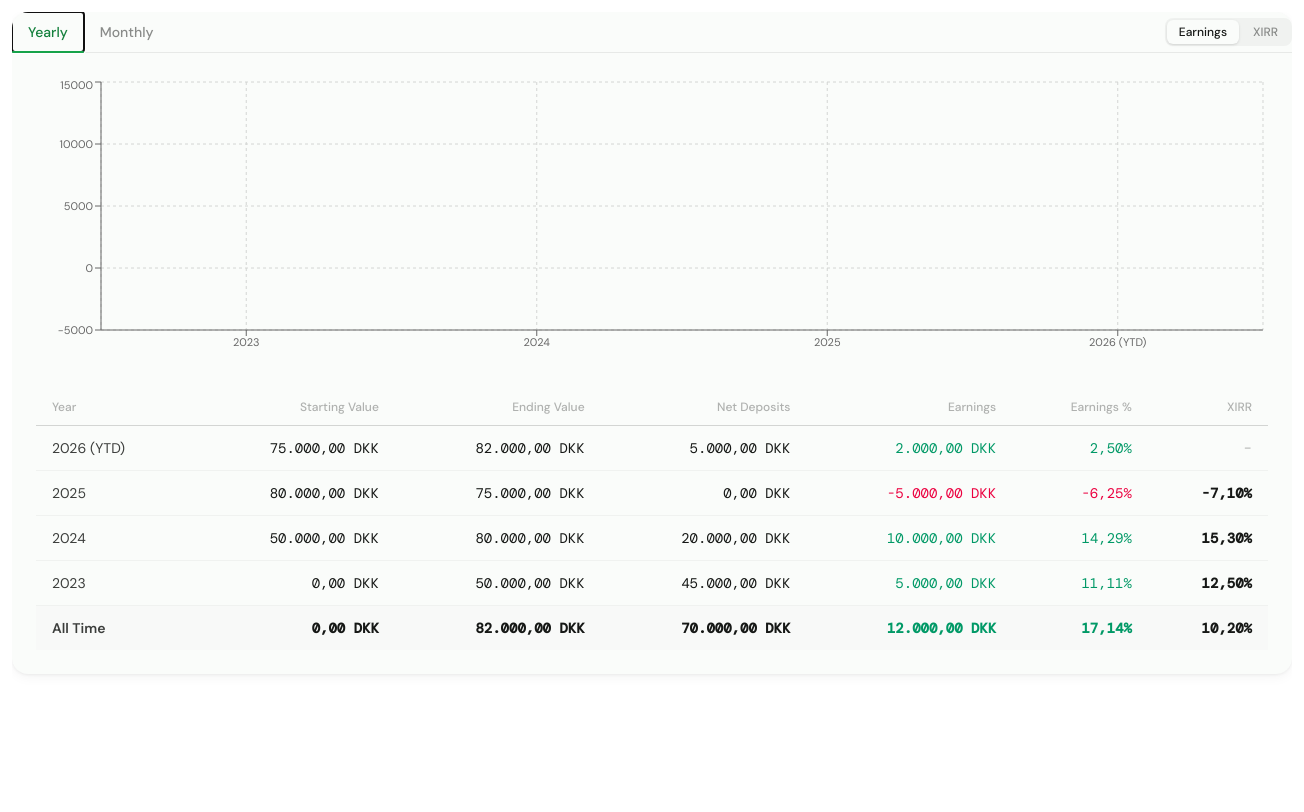
Scenario: PortfolioOverviewPerfYearly › switches to Monthly tab and shows placeholder
The image size is (1304, 812).
What coordinates should you click on to do the following:
click the tab "Monthly"
I would click on:
 (127, 32)
Its box is [84,12,170,52].
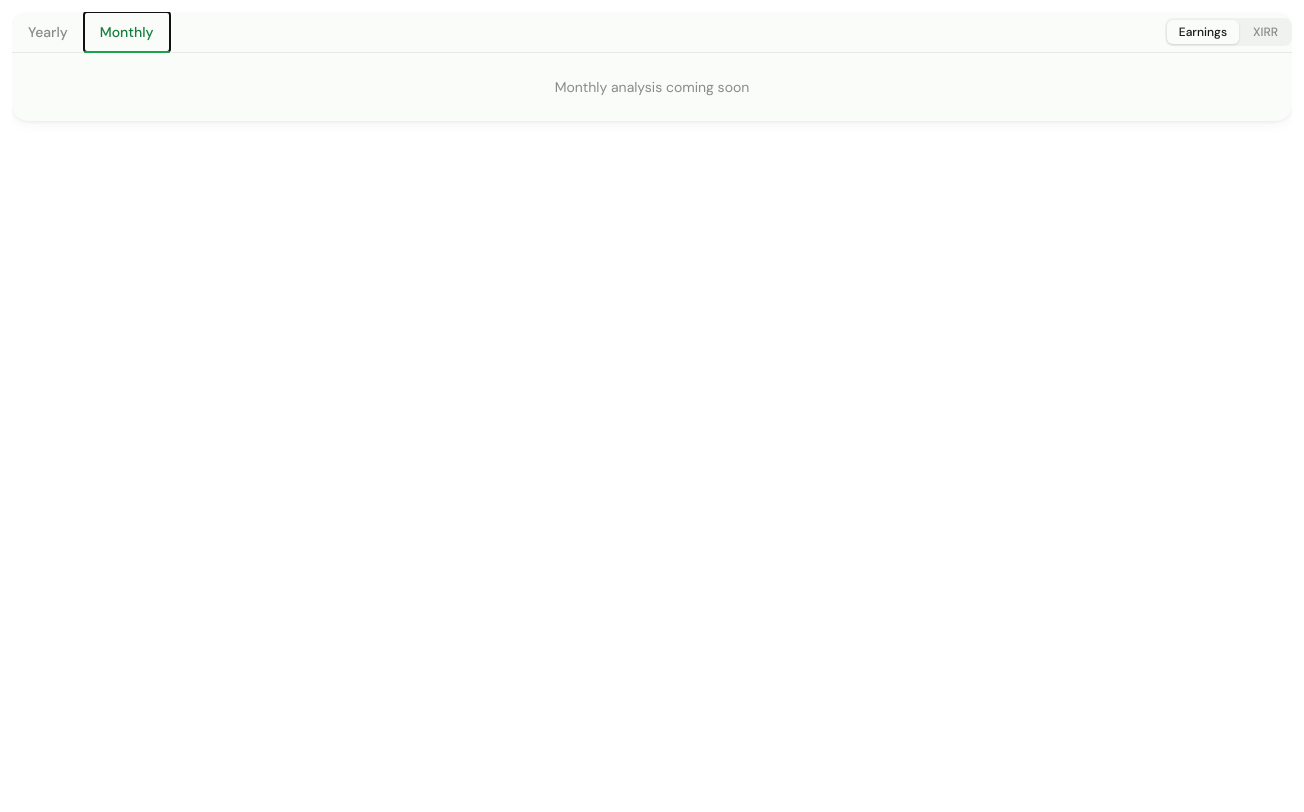
Expected: the text "Monthly analysis coming soon" is shown, [555,78,749,96]
